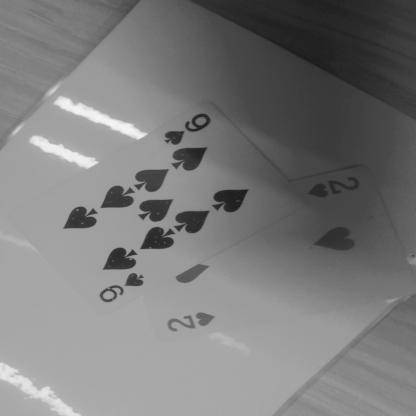2H: (296, 168, 373, 218), (148, 303, 232, 338)
9S: (145, 102, 225, 154), (90, 265, 159, 312)
